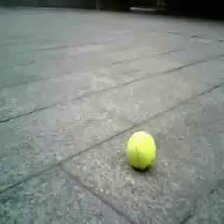tennis: (126, 132, 156, 166)
